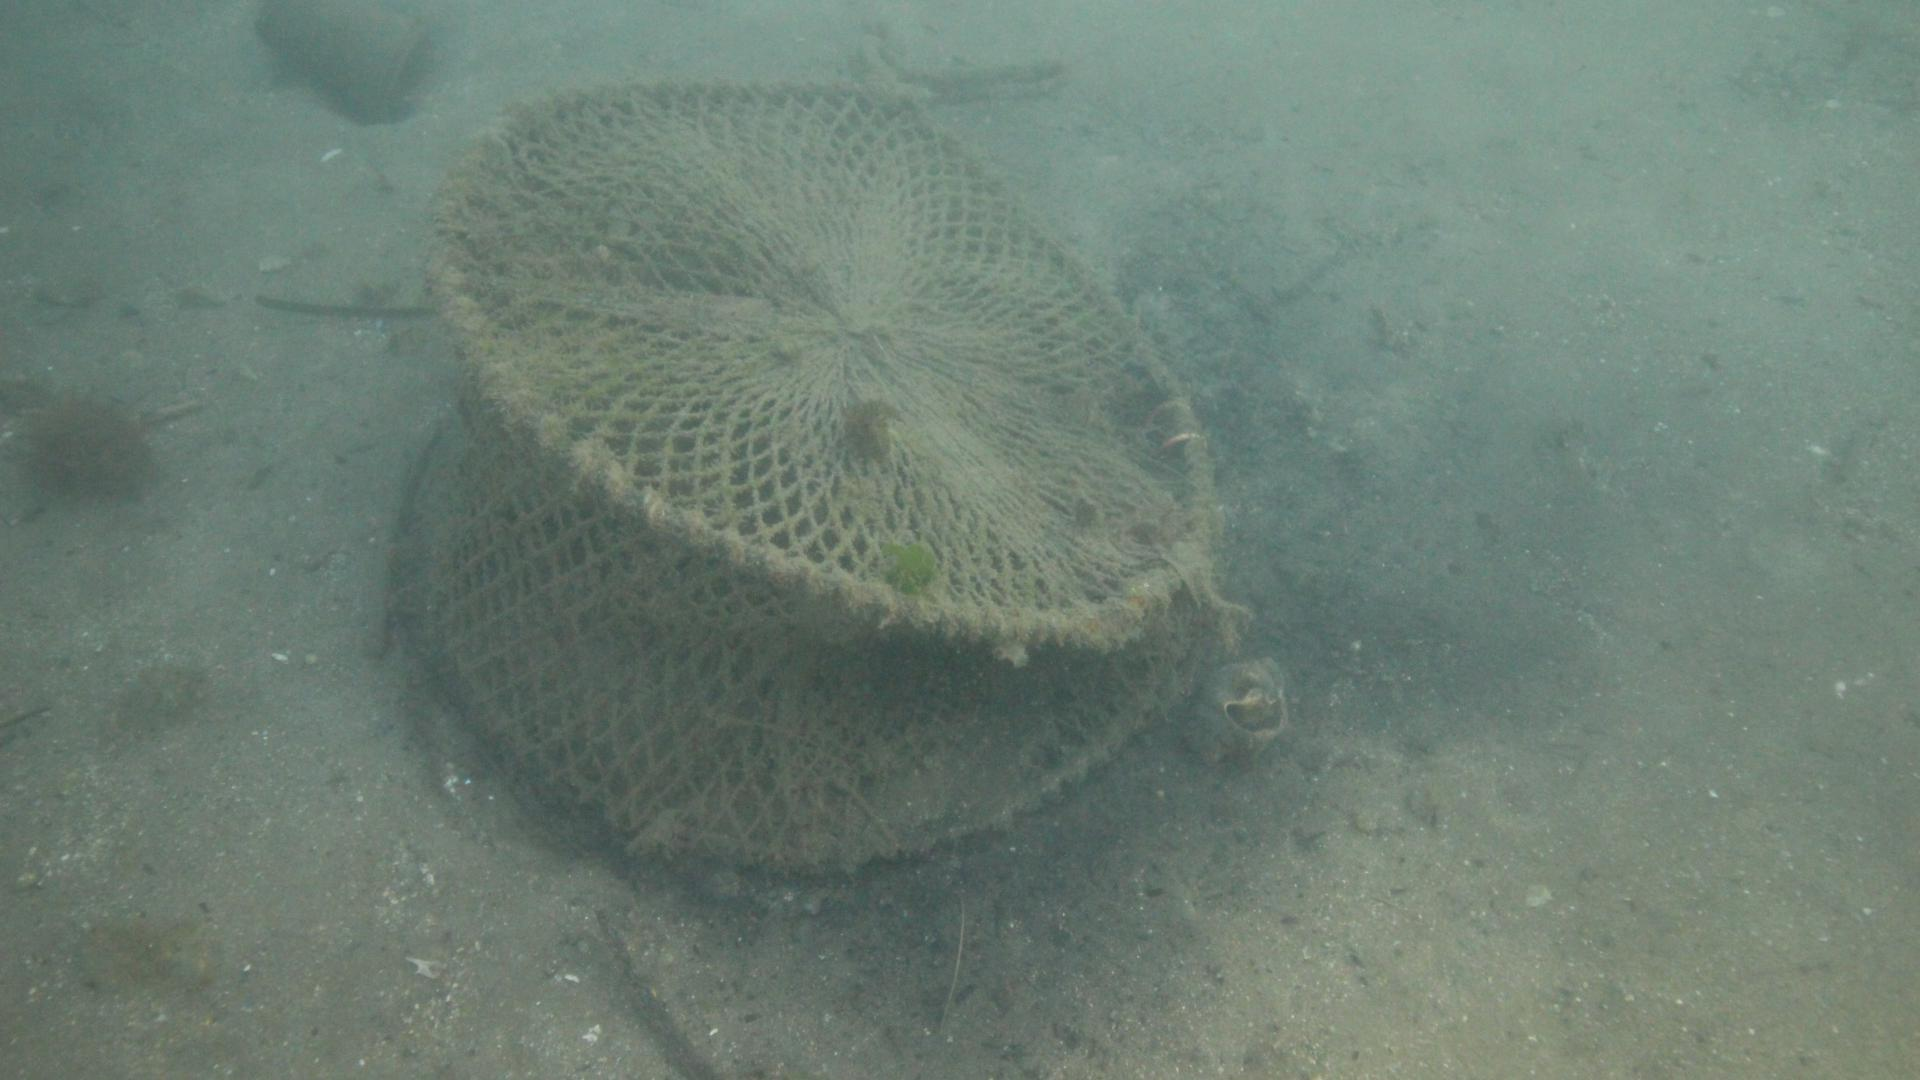circular fish trap: (421, 73, 1222, 876)
